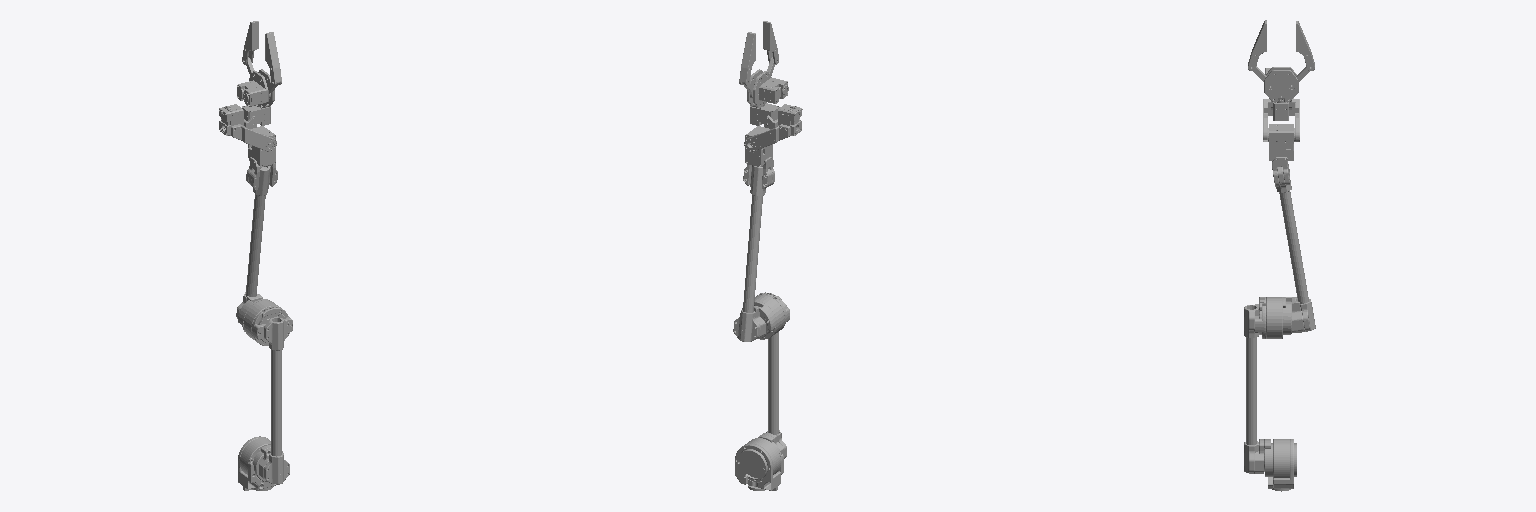
The robot description file, URDF, robot "Gadget_URDF":
<?xml version="1.0" ?>
<robot name="Gadget_URDF">

<material name="silver">
  <color rgba="0.700 0.700 0.700 0.7"/>
</material>

  <link name="world"/>

<joint name="gadget_joint_base" type="fixed">
  <parent link="world"/>
  <child link="base_link"/>
  <origin rpy="0 0 0" xyz="0 0 0.0535"/>
</joint>

  <link name="base_link">
  <inertial>
    <origin xyz="0.0006758230139762866 -0.0009173158759805002 -0.0235315559083513" rpy="0 0 0"/>
    <mass value="0.6357400087049002"/>
    <inertia ixx="0.000474" iyy="0.000535" izz="0.000742" ixy="-1e-06" iyz="-8e-06" ixz="-1.1e-05"/>
  </inertial>
  <visual>
    <origin xyz="0 0 0" rpy="0 0 0"/>
    <geometry>
      <mesh filename="base_link.stl" scale="0.001 0.001 0.001"/>
    </geometry>
    <material name="silver"/>
  </visual>
<!--  <collision>-->
<!--    <origin xyz="0 0 0" rpy="0 0 0"/>-->
<!--    <geometry>-->
<!--      <mesh filename="base_link.obj" scale="0.001 0.001 0.001"/>-->
<!--    </geometry>-->
<!--  </collision>-->
</link>

<link name="link-0">
  <inertial>
    <origin xyz="-1.2455541207857416e-05 -0.003595273789453999 0.045283518876783314" rpy="0 0 0"/>
    <mass value="0.6358143468278163"/>
    <inertia ixx="0.000438" iyy="0.000556" izz="0.00036" ixy="-6e-06" iyz="-1e-06" ixz="6e-06"/>
  </inertial>
  <visual>
    <origin xyz="0.0 -5.4e-05 -0.0" rpy="0 0 0"/>
    <geometry>
      <mesh filename="1st_link.stl" scale="0.001 0.001 0.001"/>
    </geometry>
    <material name="silver"/>
  </visual>
<!--  <collision>-->
<!--    <origin xyz="0.0 -5.4e-05 -0.0" rpy="0 0 0"/>-->
<!--    <geometry>-->
<!--      <mesh filename="1st_link.obj" scale="0.001 0.001 0.001"/>-->
<!--    </geometry>-->
<!--  </collision>-->
</link>

<link name="link-1">
  <inertial>
    <origin xyz="-0.0006622746822048507 0.009707459765027349 0.22757867821249383" rpy="0 0 0"/>
    <mass value="0.7297524787586054"/>
    <inertia ixx="0.008661" iyy="0.008529" izz="0.000587" ixy="1.6e-05" iyz="-0.000931" ixz="3.1e-05"/>
  </inertial>
  <visual>
    <origin xyz="0.0 0.030946 -0.052" rpy="0 0 0"/>
    <geometry>
      <mesh filename="2nd_link.stl" scale="0.001 0.001 0.001"/>
    </geometry>
    <material name="silver"/>
  </visual>
<!--  <colision>-->
<!--    <origin xyz="0.0 0.0 0.0" rpy="0 0 0"/>-->
<!--    <geometry>-->
<!--      <cylinder lenth="2.5" radius="2.5"/>-->
<!--    </geometry>-->
<!--  </colision>-->
  <collision>
    <origin xyz="0.0 0.030946 -0.052" rpy="0 0 0"/>
    <geometry>
      <mesh filename="2nd_link.obj" scale="0.001 0.001 0.001"/>
    </geometry>
  </collision>
</link>

<link name="link-2">
  <inertial>
    <origin xyz="-4.9837098309174176e-08 -0.004128042868085461 0.19786482709177028" rpy="0 0 0"/>
    <mass value="0.2818179534402789"/>
    <inertia ixx="0.00565" iyy="0.005578" izz="0.000131" ixy="-0.0" iyz="0.00063" ixz="0.0"/>
  </inertial>
  <visual>
    <origin xyz="0.0 -0.018054 -0.332" rpy="0 0 0"/>
    <geometry>
      <mesh filename="3rd_link.stl" scale="0.001 0.001 0.001"/>
    </geometry>
    <material name="silver"/>
  </visual>
  <collision>
    <origin xyz="0.0 -0.018054 -0.332" rpy="0 0 0"/>
    <geometry>
      <mesh filename="3rd_link.obj" scale="0.001 0.001 0.001"/>
    </geometry>
  </collision>
</link>

<link name="link-3">
  <inertial>
    <origin xyz="-0.05008926829739907 -0.02432099298074868 0.036888155090550656" rpy="0 0 0"/>
    <mass value="0.14695607343110867"/>
    <inertia ixx="0.000115" iyy="0.013" izz="0.000117" ixy="-2e-06" iyz="1e-06" ixz="4.8e-05"/>
  </inertial>
  <visual>
    <origin xyz="0.0 -0.024054 -0.69325" rpy="0 0 0"/>
    <geometry>
      <mesh filename="4th_link.stl" scale="0.001 0.001 0.001"/>
    </geometry>
    <material name="silver"/>
  </visual>
  <collision>
    <origin xyz="0.0 -0.024054 -0.69325" rpy="0 0 0"/>
    <geometry>
      <mesh filename="4th_link.obj" scale="0.001 0.001 0.001"/>
    </geometry>
  </collision>
</link>

<link name="link-4">
  <inertial>
    <origin xyz="0.02943787942513979 -1.559944980556848e-08 0.009827719749512576" rpy="0 0 0"/>
    <mass value="0.08498057819312359"/>
    <inertia ixx="1.5e-05" iyy="2.8e-05" izz="2.7e-05" ixy="0.0" iyz="0.0" ixz="-3e-06"/>
  </inertial>
  <visual>
    <origin xyz="0.04475 0.000446 -0.73325" rpy="0 0 0"/>
    <geometry>
      <mesh filename="5th_link.stl" scale="0.001 0.001 0.001"/>
    </geometry>
    <material name="silver"/>
  </visual>
  <collision>
    <origin xyz="0.04475 0.000446 -0.73325" rpy="0 0 0"/>
    <geometry>
      <mesh filename="5th_link.obj" scale="0.001 0.001 0.001"/>
    </geometry>
  </collision>
</link>

<link name="gripper_base">
  <inertial>
    <origin xyz="-0.014740561804724862 -0.003986447525329719 0.029950257308897332" rpy="0 0 0"/>
    <mass value="0.13025572421405346"/>
    <inertia ixx="4.9e-02" iyy="5.1e-05" izz="5.9e-03" ixy="-6e-06" iyz="0.0" ixz="0.0"/>
  </inertial>
  <visual>
    <origin xyz="0.0 0.000446 -0.762" rpy="0 0 0"/>
    <geometry>
      <mesh filename="gripper_base.stl" scale="0.001 0.001 0.001"/>
    </geometry>
    <material name="silver"/>
  </visual>
<!--  <collision>-->
<!--    <origin xyz="0.0 0.000446 -0.762" rpy="0 0 0"/>-->
<!--    <geometry>-->
<!--      <mesh filename="gripper_base.obj" scale="0.001 0.001 0.001"/>-->
<!--    </geometry>-->
<!--  </collision>-->
</link>

<link name="gripper_1st_link">
  <inertial>
    <origin xyz="0.006392583526311925 -0.00731663467362189 0.011047101316513874" rpy="0 0 0"/>
    <mass value="0.0069954393808600536"/>
    <inertia ixx="3e-03" iyy="2e-06" izz="2e-03" ixy="0.0" iyz="1e-06" ixz="-0.0"/>
  </inertial>
  <visual>
    <origin xyz="0.006967 0.019452 -0.791995" rpy="0 0 0"/>
    <geometry>
      <mesh filename="gripper_1st_link.stl" scale="0.001 0.001 0.001"/>
    </geometry>
    <material name="silver"/>
  </visual>
<!--  <collision>-->
<!--    <origin xyz="0.006967 0.019452 -0.791995" rpy="0 0 0"/>-->
<!--    <geometry>-->
<!--      <mesh filename="gripper_1st_link.obj" scale="0.001 0.001 0.001"/>-->
<!--    </geometry>-->
<!--  </collision>-->
</link>

<link name="gripper_2nd_link">
  <inertial>
    <origin xyz="0.00403364299982093 0.007527845350848109 0.01142359675347282" rpy="0 0 0"/>
    <mass value="0.0068632097503264705"/>
    <inertia ixx="3e-06" iyy="2e-06" izz="2e-06" ixy="-0.0" iyz="-1e-06" ixz="0.0"/>
  </inertial>
  <visual>
    <origin xyz="0.003967 -0.018548 -0.791995" rpy="0 0 0"/>
    <geometry>
      <mesh filename="gripper_2nd_link.stl" scale="0.001 0.001 0.001"/>
    </geometry>
    <material name="silver"/>
  </visual>
<!--  <collision>-->
<!--    <origin xyz="0.003967 -0.018548 -0.791995" rpy="0 0 0"/>-->
<!--    <geometry>-->
<!--      <mesh filename="gripper_2nd_link.obj" scale="0.001 0.001 0.001"/>-->
<!--    </geometry>-->
<!--  </collision>-->
</link>

<link name="R_finger">
  <inertial>
    <origin xyz="0.00416247739740145 0.032272351615225445 0.07328536570903155" rpy="0 0 0"/>
    <mass value="0.013208226573885864"/>
    <inertia ixx="7e-06" iyy="6e-06" izz="1e-06" ixy="0.0" iyz="-2e-06" ixz="0.0"/>
  </inertial>
  <visual>
    <origin xyz="0.003817 0.068692 -0.800678" rpy="0 0 0"/>
    <geometry>
      <mesh filename="R_finger.stl" scale="0.001 0.001 0.001"/>
    </geometry>
    <material name="silver"/>
  </visual>
  <collision>
    <origin xyz="0.0 0.043 -0.05" rpy="0 0 -1.570796"/>
    <geometry>
      <mesh filename="R_finger.obj" scale="0.001 0.001 0.001"/>
    </geometry>
  </collision>
</link>

<link name="L_finger">
  <inertial>
    <origin xyz="0.0040624773974021885 -0.03227241332640478 0.07328536570902822" rpy="0 0 0"/>
    <mass value="0.013208226573885864"/>
    <inertia ixx="7e-06" iyy="6e-06" izz="1e-06" ixy="-0.0" iyz="2e-06" ixz="0.0"/>
  </inertial>
  <visual>
    <origin xyz="0.003717 -0.067789 -0.800678" rpy="0 0 0"/>
    <geometry>
      <mesh filename="L_finger.stl" scale="0.001 0.001 0.001"/>
    </geometry>
    <material name="silver"/>
  </visual>
  <collision>
    <origin xyz="0.0 -0.043 -0.05" rpy="0 3.141592 -1.570796"/>
    <geometry>
      <mesh filename="L_finger.obj" scale="0.001 0.001 0.001"/>
    </geometry>
  </collision>
</link>

<joint name="RY-0" type="revolute">
  <origin xyz="0.0 0.0 0.0" rpy="0 0 0"/>
  <parent link="base_link"/>
  <child link="link-0"/>
  <axis xyz="0.0 0.0 1.0"/>
</joint>

<joint name="RP-1" type="revolute">
  <origin xyz="0.0 -0.031 0.052" rpy="0 0 0"/>
  <parent link="link-0"/>
  <child link="link-1"/>
  <axis xyz="0.0 1.0 0.0"/>
</joint>

<joint name="RP-2" type="revolute">
  <origin xyz="0.0 0.049 0.28" rpy="0 0 0"/>
  <parent link="link-1"/>
  <child link="link-2"/>
  <axis xyz="0.0 1.0 0.0"/>
</joint>

<joint name="RP-3" type="revolute">
  <origin xyz="0.0 0.006 0.36125" rpy="0 0 0"/>
  <parent link="link-2"/>
  <child link="link-3"/>
  <axis xyz="0.0 1.0 0.0"/>
</joint>

<joint name="RR-4" type="revolute">
  <origin xyz="-0.04475 -0.0245 0.04" rpy="0 0 0"/>
  <parent link="link-3"/>
  <child link="link-4"/>
  <axis xyz="1.0 0.0 0.0"/>
</joint>

<joint name="RY-5" type="revolute">
  <origin xyz="0.04475 0.0 0.02875" rpy="0 0 0"/>
  <parent link="link-4"/>
  <child link="gripper_base"/>
  <axis xyz="0.0 0.0 1.0"/>
</joint>

<joint name="G-0-0" type="fixed">
  <origin xyz="-0.006967 -0.019006 0.029995" rpy="0 0 0"/>
  <parent link="gripper_base"/>
  <child link="gripper_1st_link"/>
</joint>

<joint name="G-1-0" type="fixed">
  <origin xyz="-0.003967 0.018994 0.029995" rpy="0 0 0"/>
  <parent link="gripper_base"/>
  <child link="gripper_2nd_link"/>
</joint>

<joint name="G-0-1" type="fixed">
  <origin xyz="0.00315 -0.04924 0.008683" rpy="0 0 0"/>
  <parent link="gripper_1st_link"/>
  <child link="R_finger"/>
</joint>

<joint name="G-1-1" type="fixed">
  <origin xyz="0.00025 0.049241 0.008683" rpy="0 0 0"/>
  <parent link="gripper_2nd_link"/>
  <child link="L_finger"/>
</joint>

</robot>

--- Render facts (derived) ---
Views: 3 orthographic renders of the robot side by side, from view 1: azimuth 30°, elevation 25°; view 2: azimuth 150°, elevation 25°; view 3: azimuth 270°, elevation 25°.
Model Gadget_URDF with 12 links and 11 joints (6 revolute, 5 fixed), rooted at world, posed all joints at 0.
Visible links, largest first — view 1: link-1, link-2, link-0, link-3, gripper_base, R_finger, link-4; view 2: link-2, link-1, link-0, link-3, gripper_base, link-4, L_finger; view 3: link-1, link-2, link-0, gripper_base, link-3.
Boxes of the visible links, x1,y1,x2,y2 form: link-1: [238, 299, 292, 484]; link-2: [236, 126, 277, 318]; link-0: [238, 436, 282, 490]; link-3: [219, 104, 276, 151]; gripper_base: [237, 69, 274, 107]; R_finger: [265, 32, 281, 85]; link-4: [242, 105, 270, 128]; link-2: [733, 126, 774, 341]; link-1: [742, 292, 789, 458]; link-0: [735, 438, 783, 490]; link-3: [744, 104, 802, 151]; gripper_base: [747, 69, 788, 107]; link-4: [750, 103, 779, 128]; L_finger: [739, 32, 755, 85]; link-1: [1244, 297, 1291, 473]; link-2: [1268, 124, 1315, 332]; link-0: [1264, 439, 1296, 491]; gripper_base: [1264, 67, 1298, 101]; link-3: [1263, 98, 1299, 141].
Size in the robot's own frame: 0.1243 by 0.1279 by 0.9156 metres.
Meshes: 11 distinct files referenced, 10 mesh visuals loaded (10 binary STL); not drawn: 1 (reference not matched to a file when rendering).